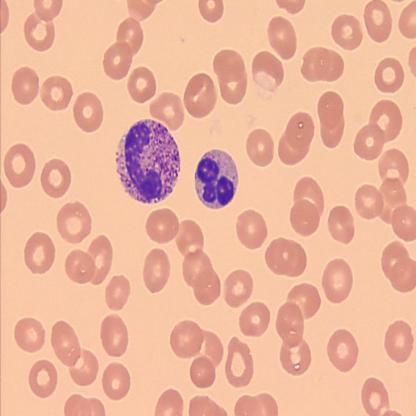Band Neutrophil: (113, 114, 183, 207)
